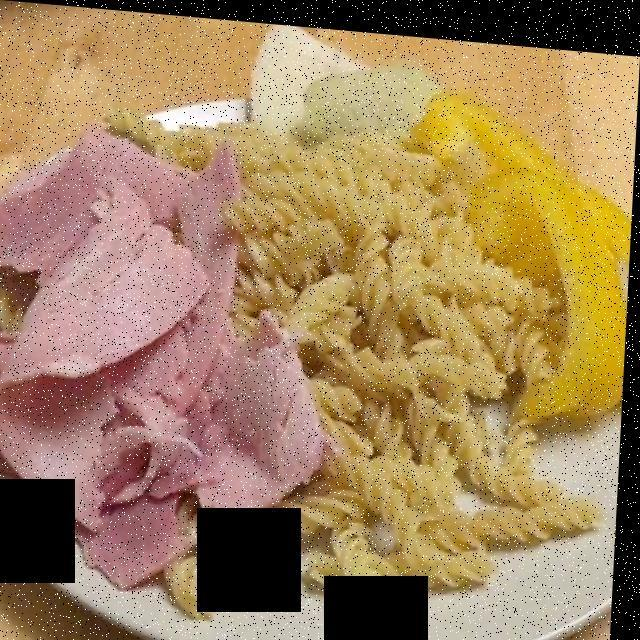bell-pepper: (407, 79, 615, 428)
cucumber: (245, 30, 439, 133)
ham: (0, 116, 327, 636)
pasta: (96, 111, 577, 632)
